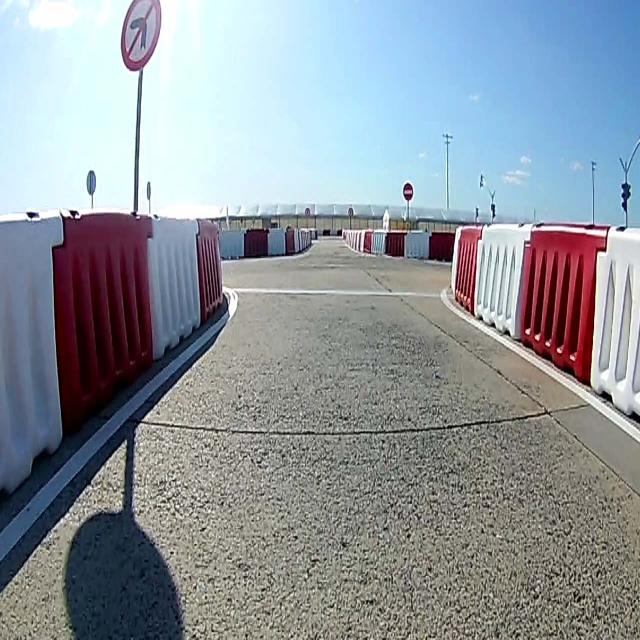girisyok: (402, 181, 413, 202)
soladonulmez: (120, 1, 162, 71)
